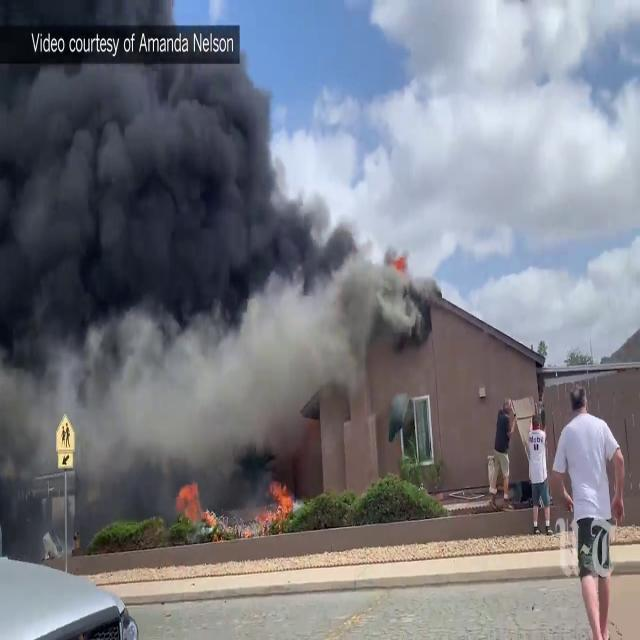Fire: (172, 470, 219, 546)
Smoke: (0, 1, 383, 530)
